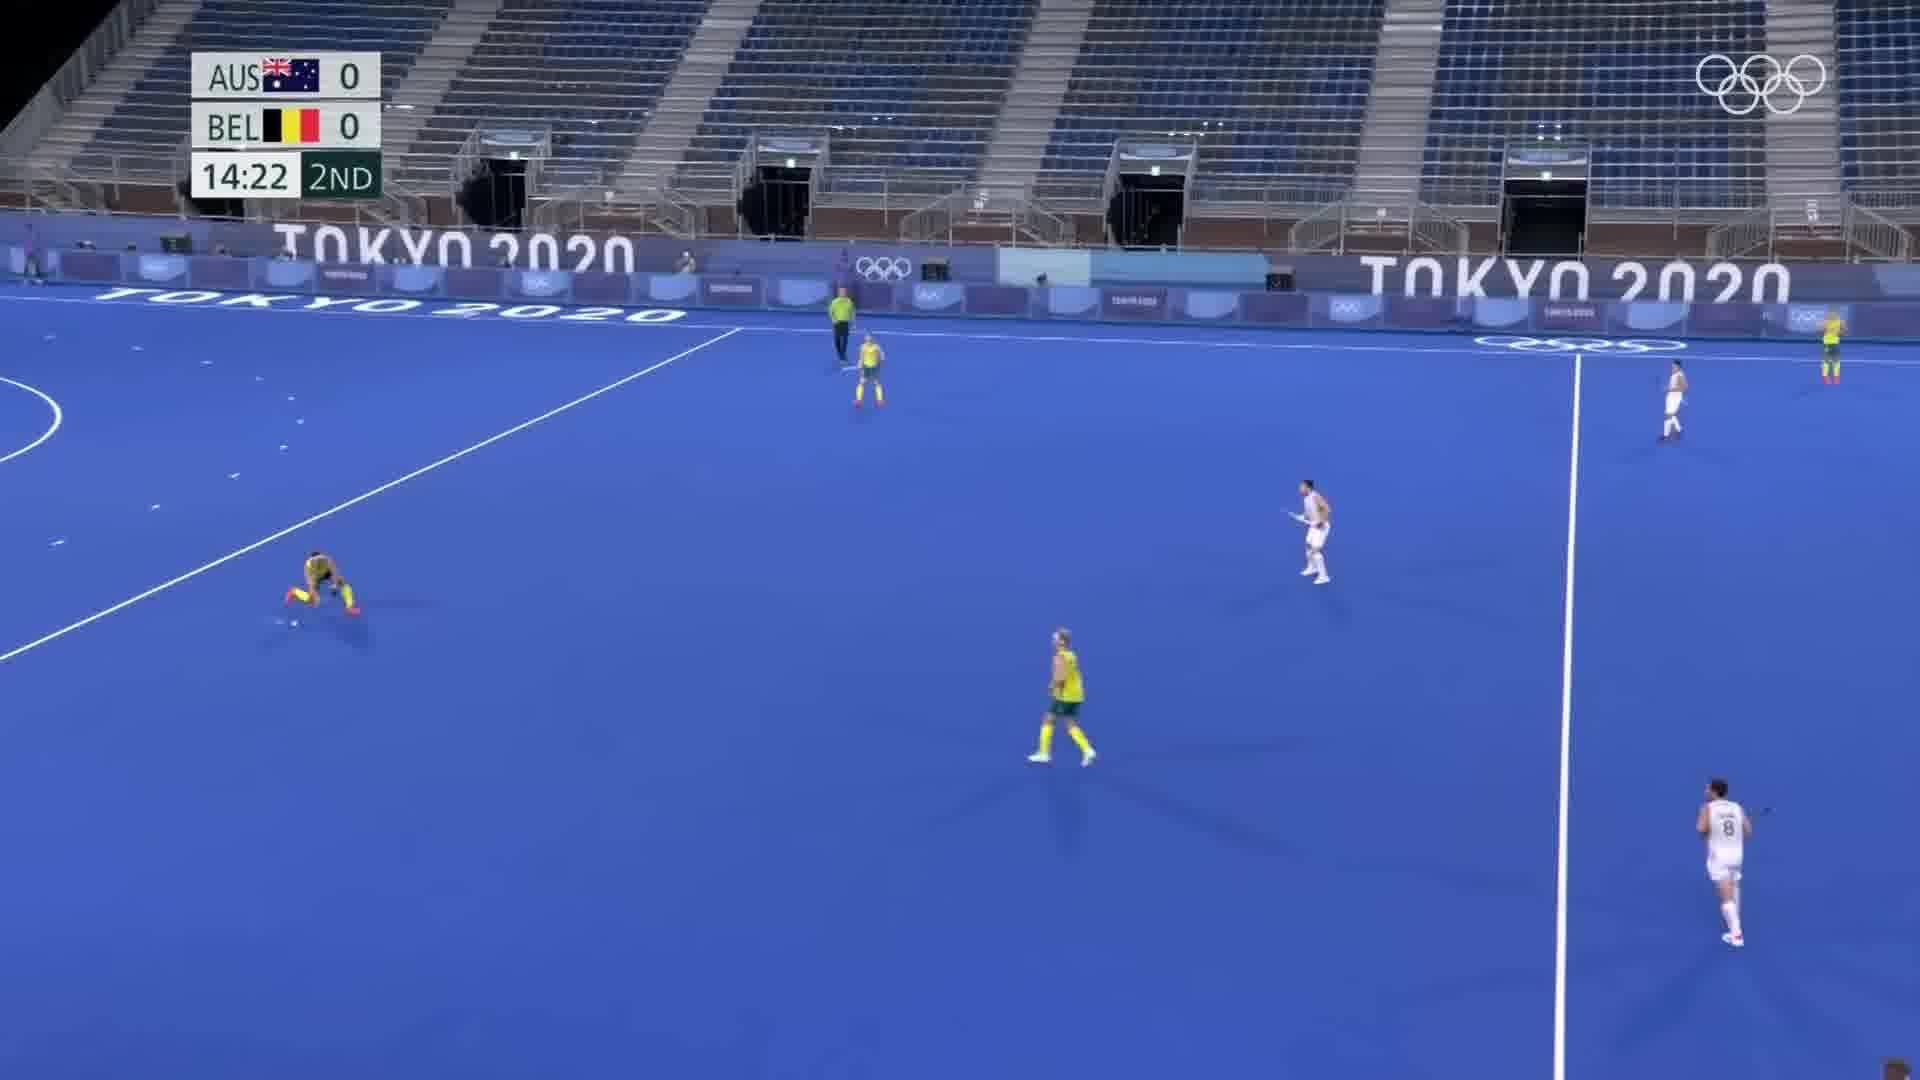ball: (285, 615, 301, 630)
